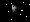person: (14, 4, 22, 15)
